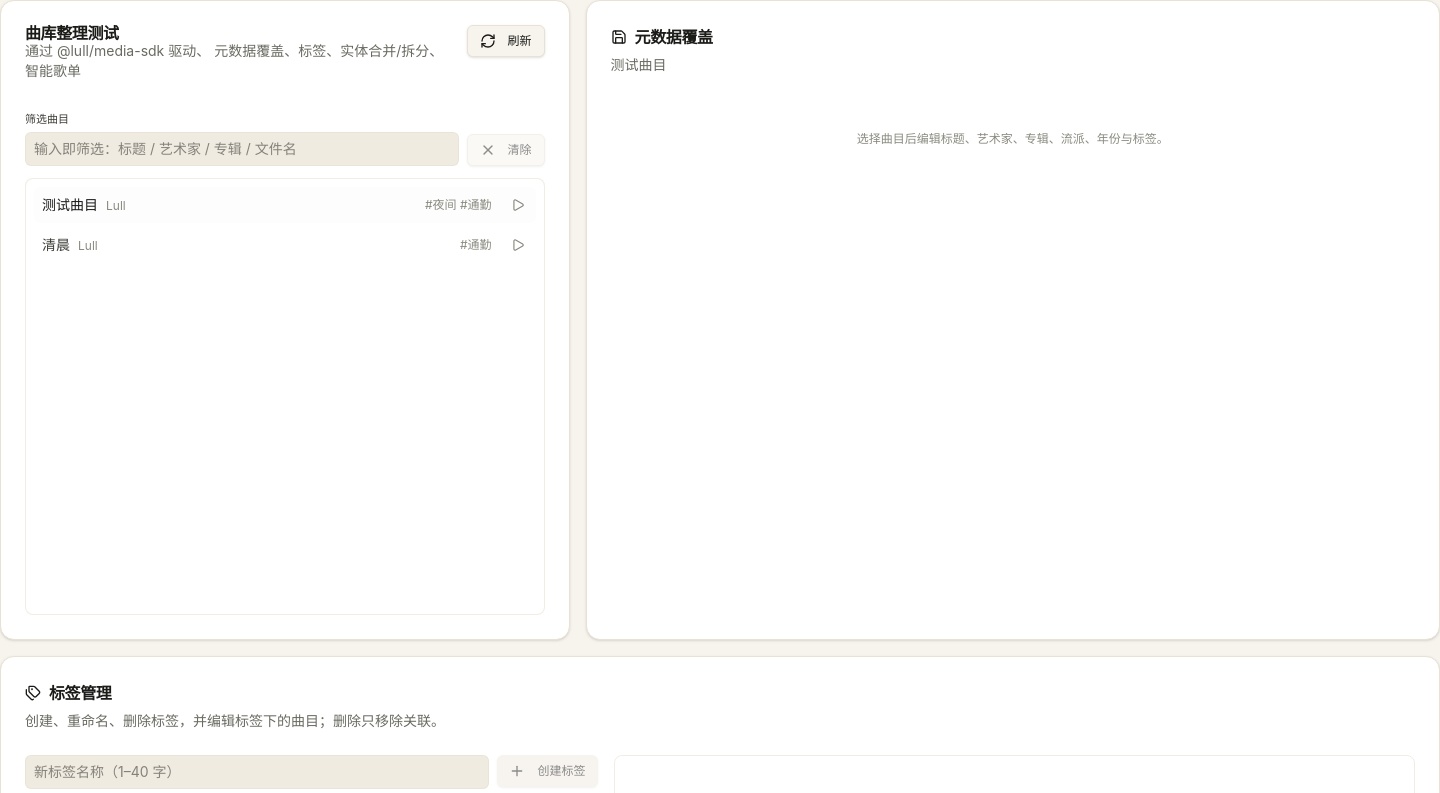
Scenario: 标签管理卡片支持新建标签并自动选中
The width and height of the screenshot is (1440, 793).
Step 1. Type "深夜" into the field labelled "新标签名称" → (257, 772), box [25, 755, 490, 789]
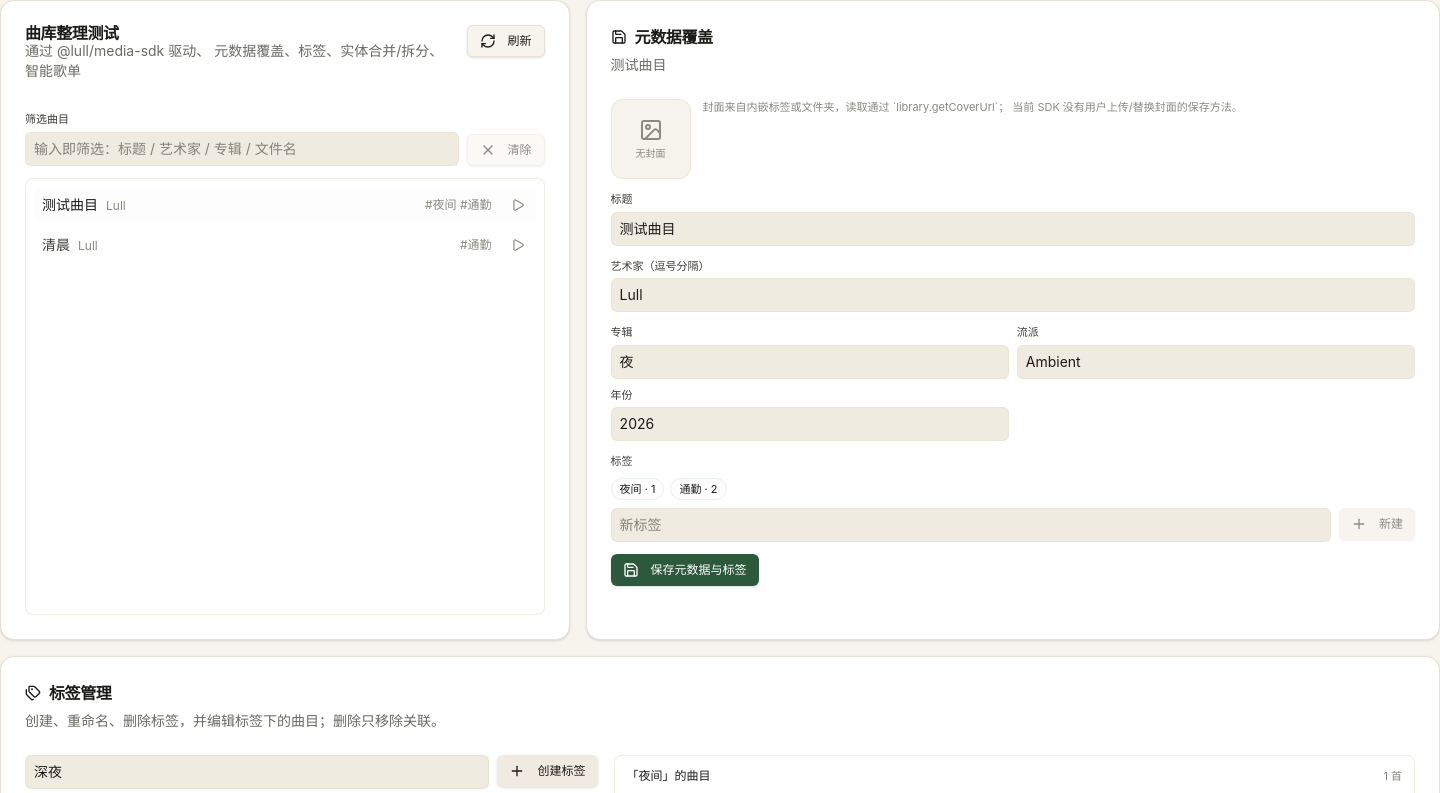
Step 2. Click the button "创建标签" → (548, 771), box [498, 755, 598, 787]
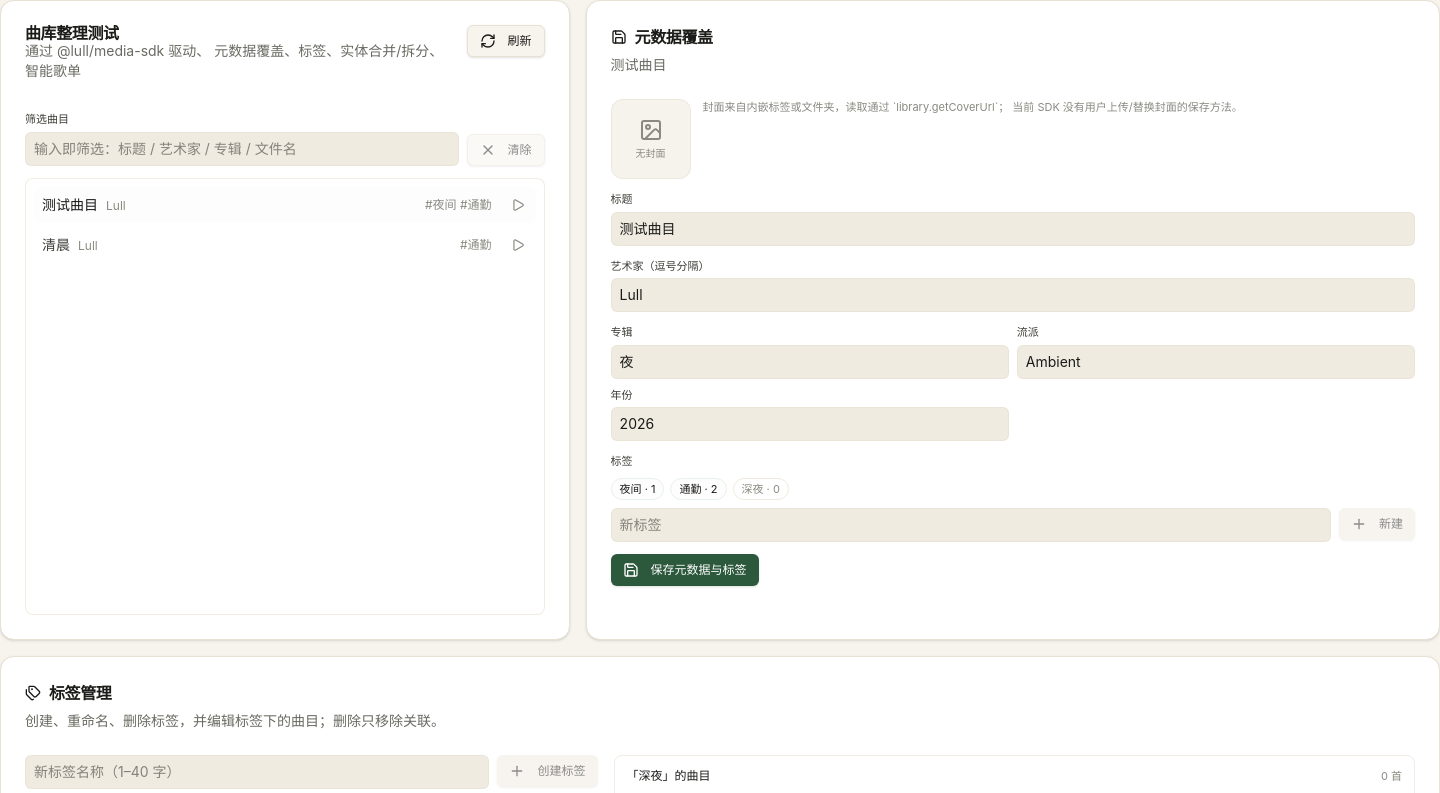
Now the text "「深夜」的曲目" is shown, box [626, 768, 710, 784]
